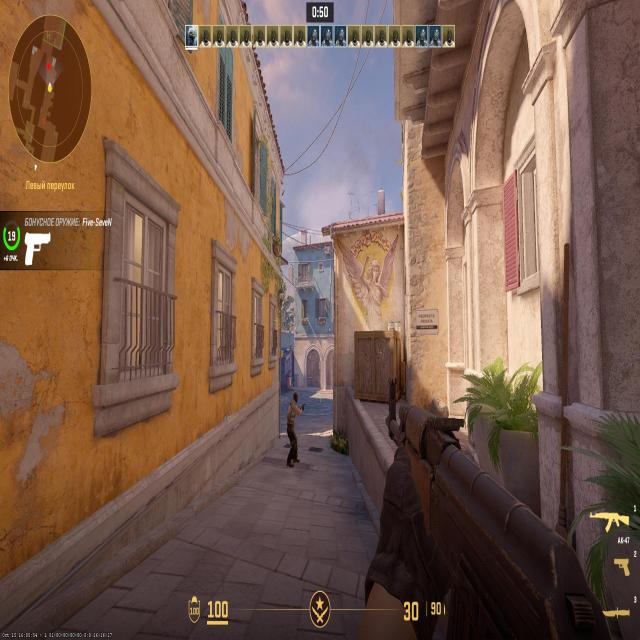T: (292, 393, 298, 458)
T_heat: (295, 397, 299, 406)
